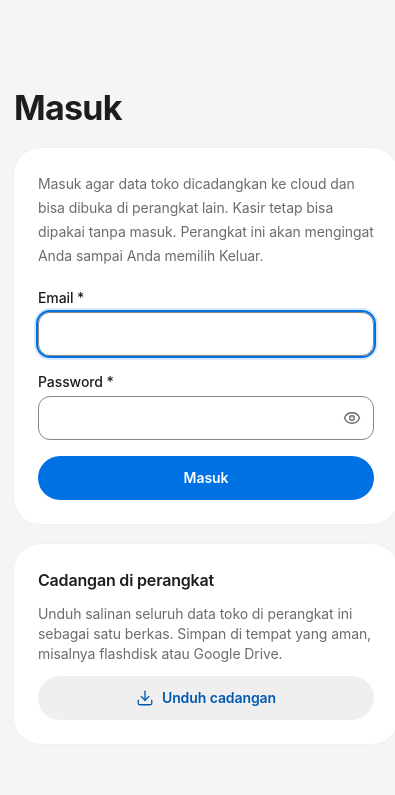
Test: Masuk: download a backup file › says so, and lets the owner try again, when the file could not be made
The image size is (395, 795).
Click the button "Unduh cadangan".
click(206, 698)  # box [38, 676, 374, 720]
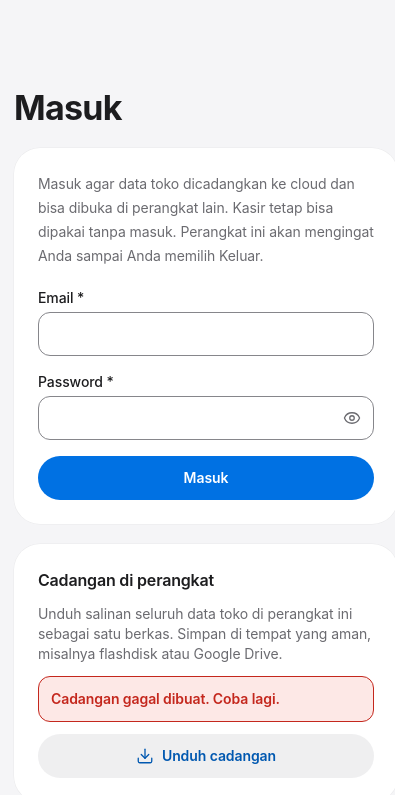
Expected: the message reads "Cadangan gagal dibuat. Coba lagi.", [51, 690, 280, 707]
Click the button "Unduh cadangan".
click(206, 756)  # box [38, 734, 374, 778]
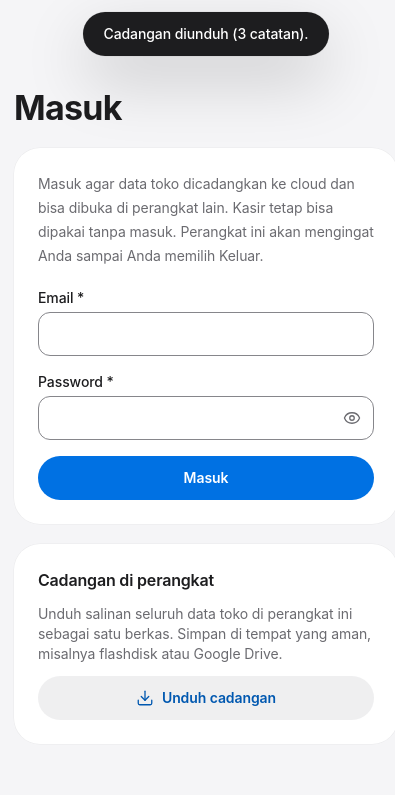
Expected: the text "Cadangan diunduh (3 catatan)." is shown, [84, 12, 329, 56]
Expected: the message "Cadangan gagal dibuat. Coba lagi." is gone
